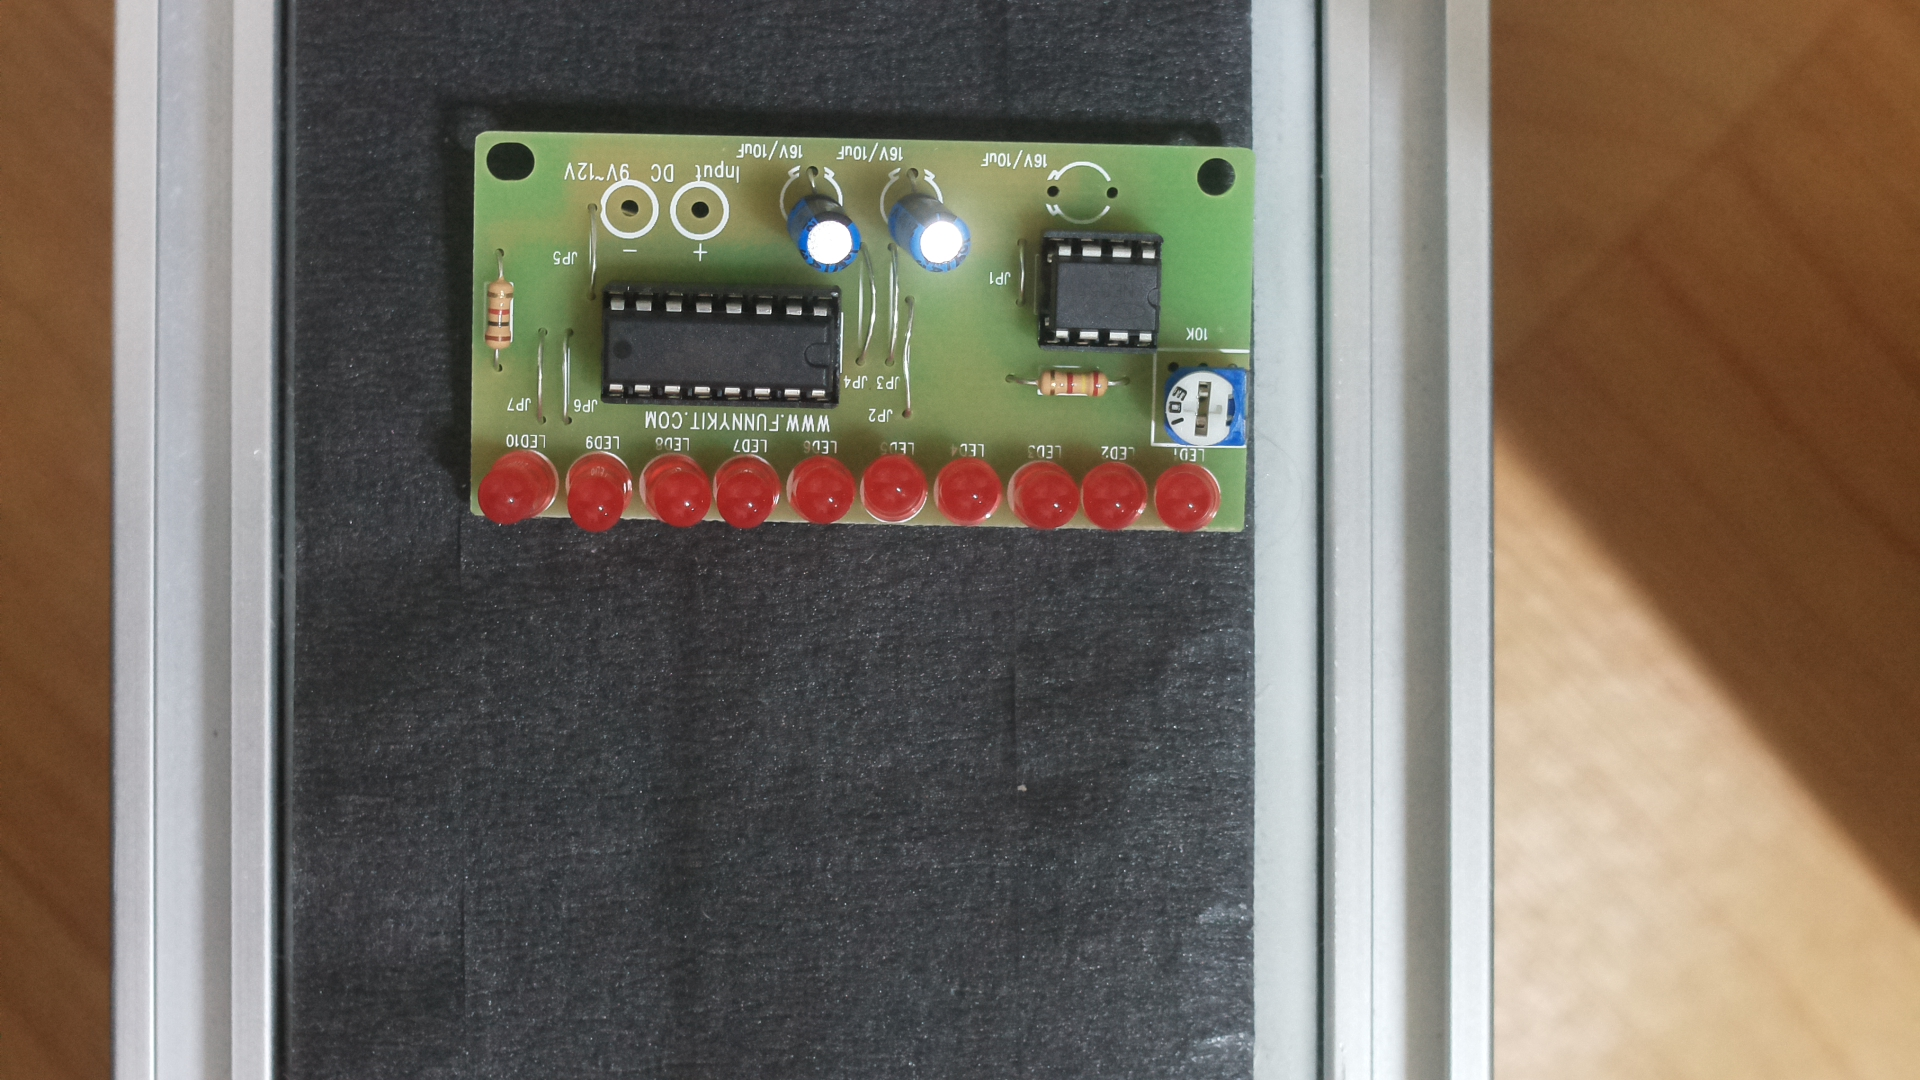B_Missing_part: (450, 109, 1259, 564)
